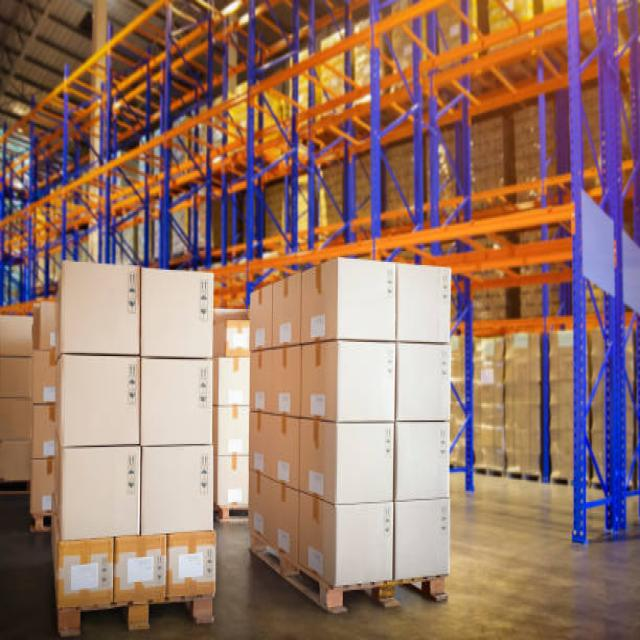Wooden-Pallets: (248, 524, 455, 616), (60, 593, 221, 636)
